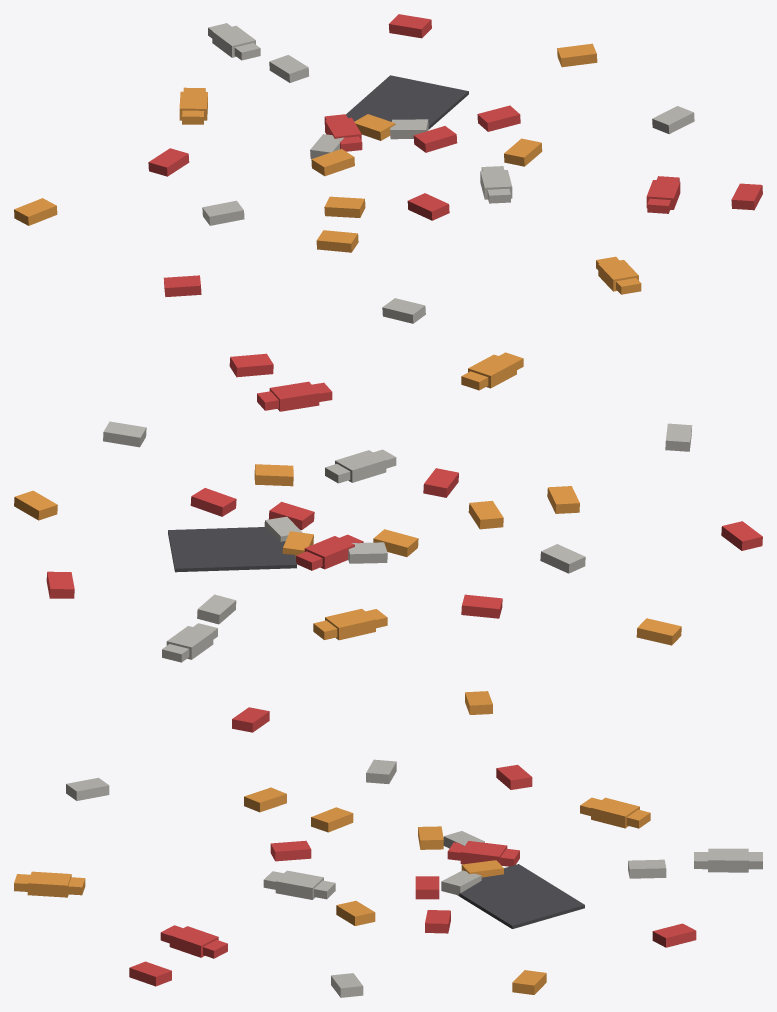
File: halloween-slasher-street-scattered-candy-7c1e20a4__27314.glb
The picture shows the model from 3 angles, top to bottom: view 1: azimuth 30°, elevation 25°; view 2: azimuth 150°, elevation 25°; view 3: azimuth 270°, elevation 25°; orthographic projection. The views are drawn at different scales.
Visible parts, largest first — view 1: scattered-candy; view 2: scattered-candy; view 3: scattered-candy.
Part boxes in pixels (x1,y1,x2,y2): scattered-candy: [14, 14, 762, 323]; scattered-candy: [14, 352, 762, 662]; scattered-candy: [14, 691, 762, 997].
Bounding box in the file's own units: 0.9664 × 0.0198 × 1.02.
4 materials, 1 textured.
